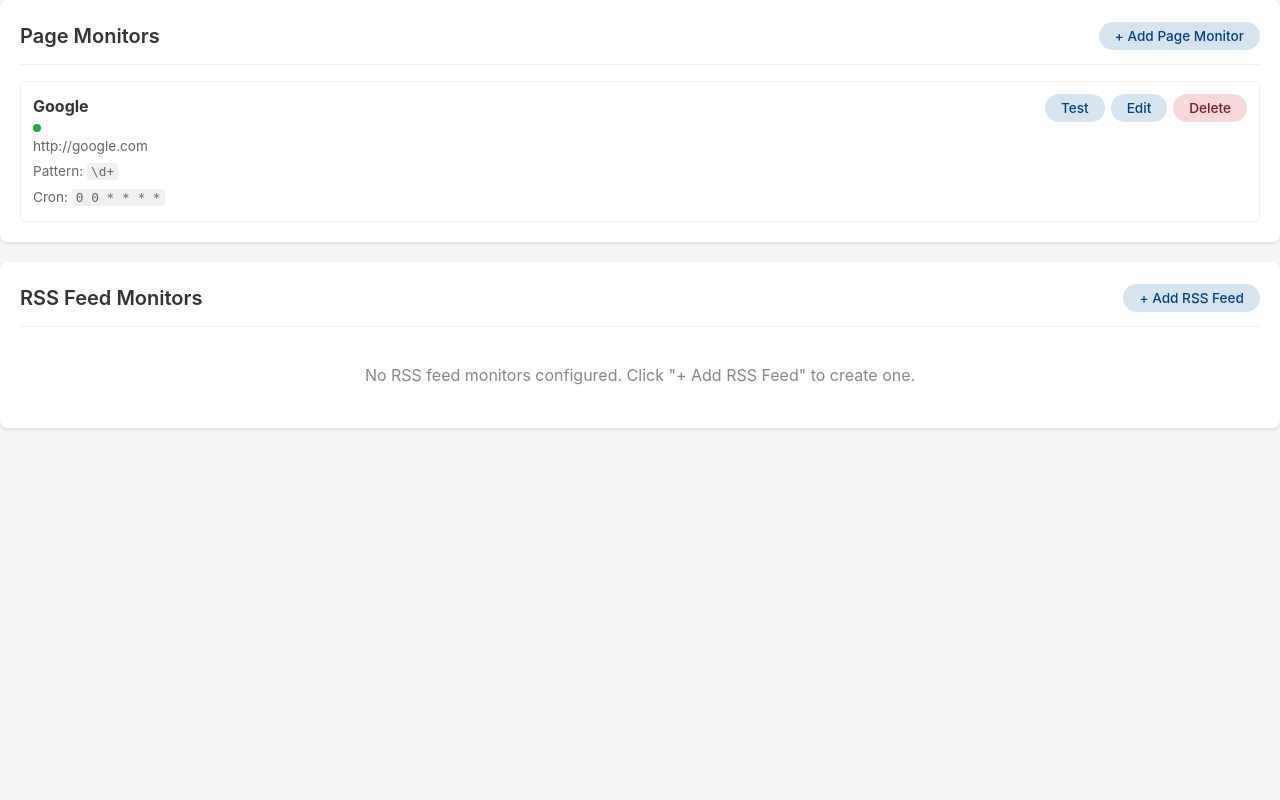
Test case: MonitorConfig › opens edit form for existing page monitor
Expected: the text "Google" is shown, x1=33 y1=96 x2=89 y2=116
Click the button "Edit" at (1139, 108), box x1=1111 y1=94 x2=1167 y2=122
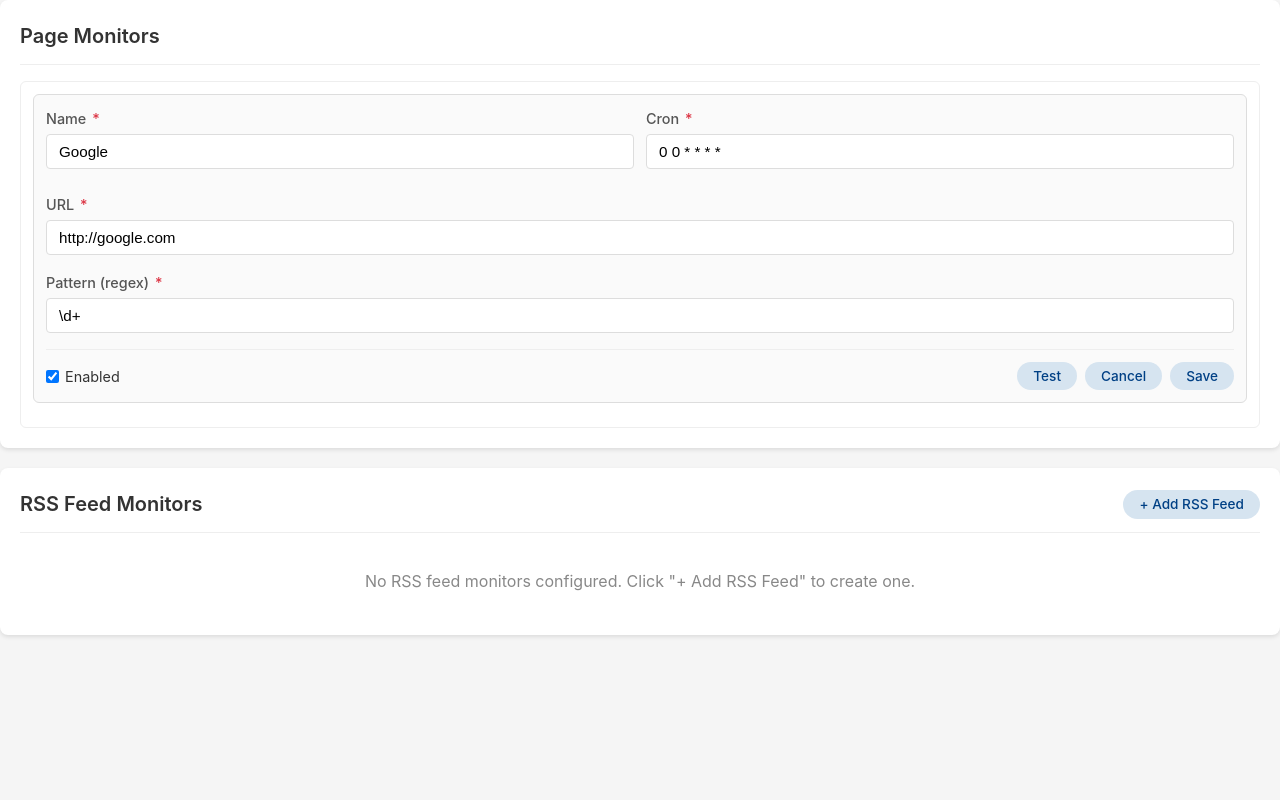
Expected: the field showing "Google" is shown, x1=46 y1=134 x2=634 y2=169
